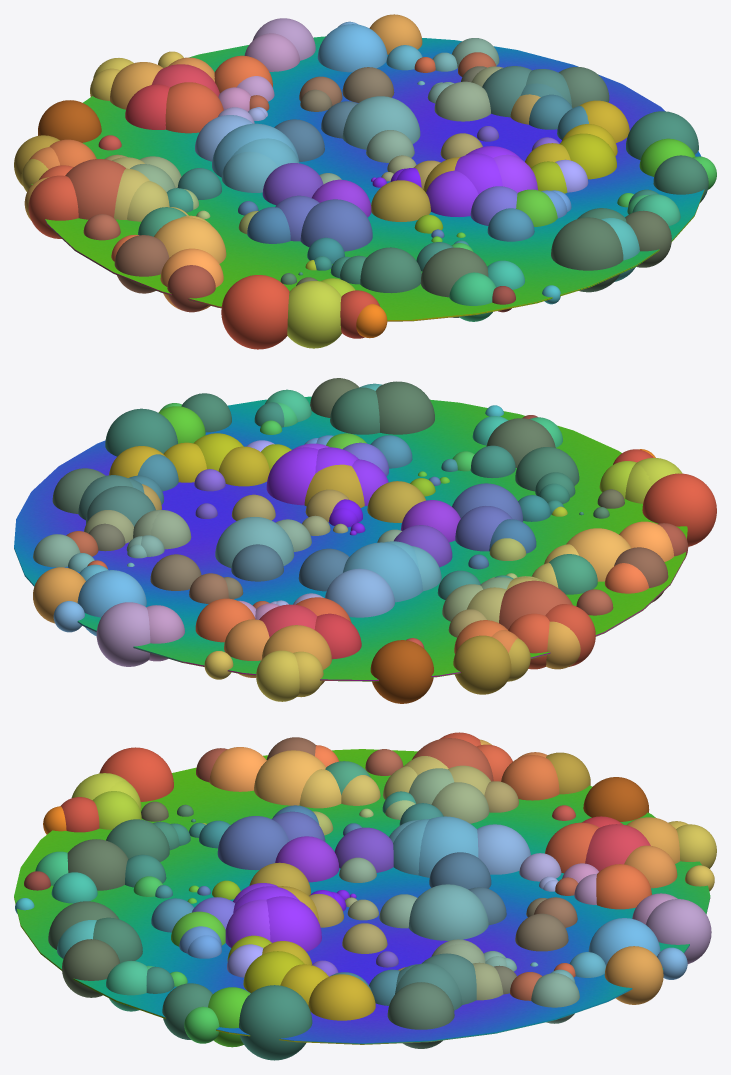
File: CV_Heart_Cupola_3.glb
3 renders of one model, top to bottom at view 1: azimuth 30°, elevation 25°; view 2: azimuth 150°, elevation 25°; view 3: azimuth 270°, elevation 25°, orthographic. The views are drawn at different scales.
Parts seen in each view (by area): view 1: Cylinder; view 2: Cylinder; view 3: Cylinder.
Part boxes in pixels (bbox=[...]): Cylinder: bbox=[14, 14, 716, 349]; Cylinder: bbox=[14, 378, 716, 703]; Cylinder: bbox=[14, 732, 716, 1060].
Bounding box in the file's own units: 20 × 2.63 × 20.19.
2 materials, 2 textured.
